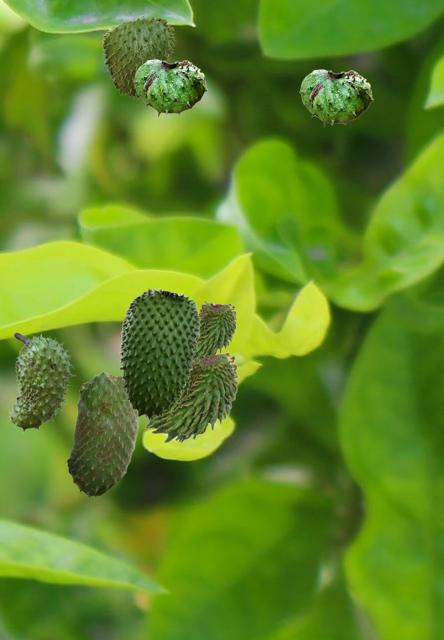guyabano: (119, 287, 199, 419), (66, 371, 138, 497), (143, 352, 238, 442), (7, 332, 75, 432), (102, 15, 175, 99), (133, 59, 206, 116), (299, 69, 372, 126), (193, 300, 236, 360)
